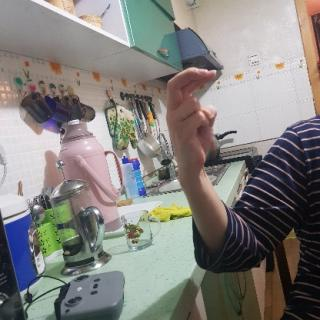ZAY: (164, 63, 228, 178)
